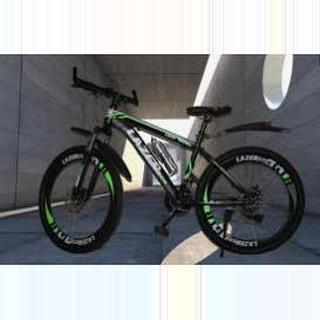Bike: (32, 73, 313, 259)
